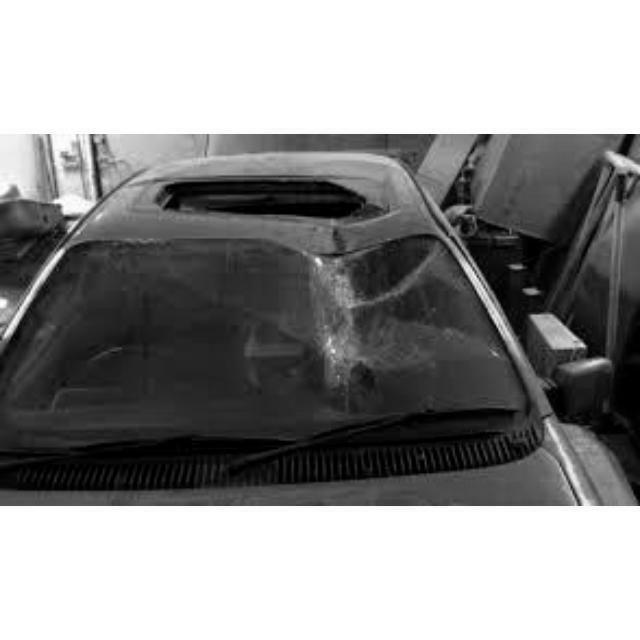Front-windscreen-damage: (18, 239, 544, 500)
roof-dent: (92, 154, 425, 245)
